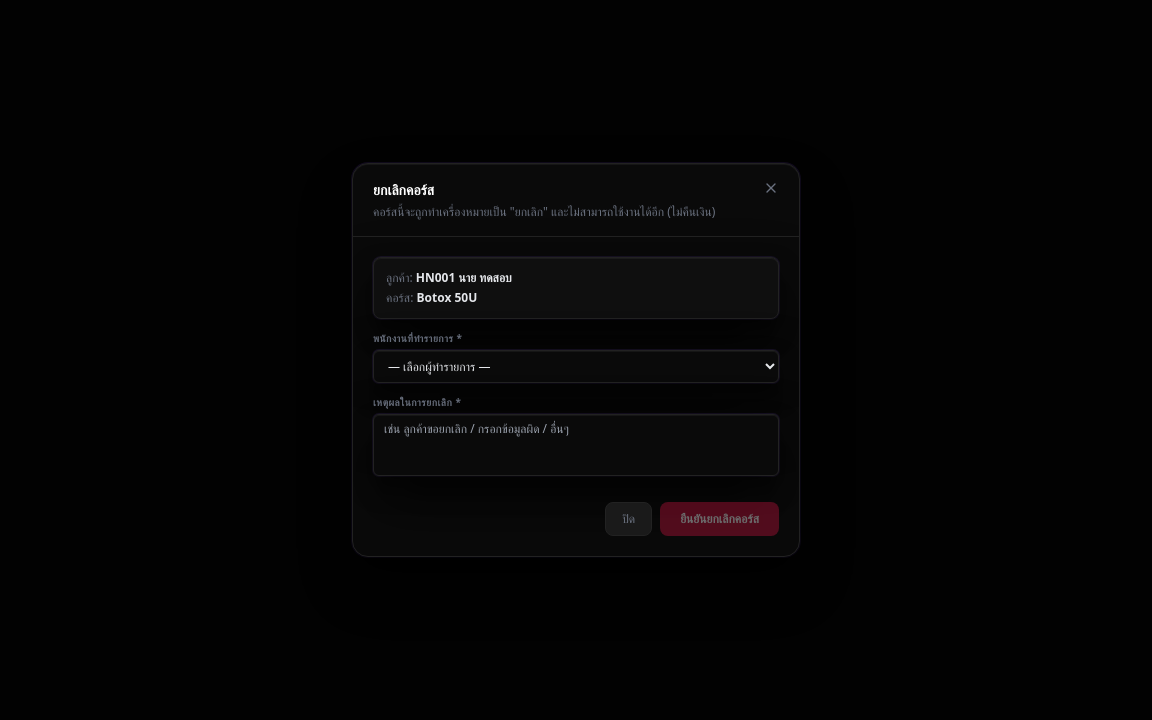
it: M1 CancelCourseModal › M1.4 error banner shown on backend failure (V31 anti-silent-swallow)
Select "นาง สมหญิง ใจดี" in the dropdown with test id "cancel-course-staff" at (576, 366), box [373,350,779,383]
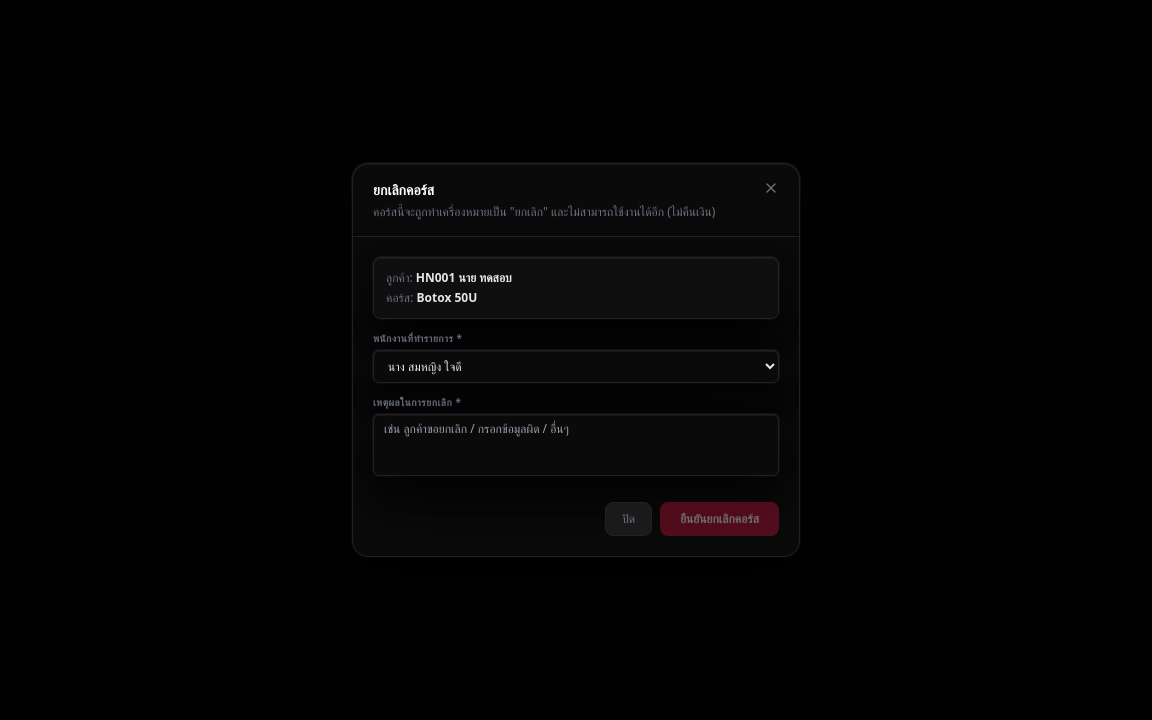
Type "r" into the text box with test id "cancel-course-reason".
click(576, 445); type("r")  # box [373,414,779,476]
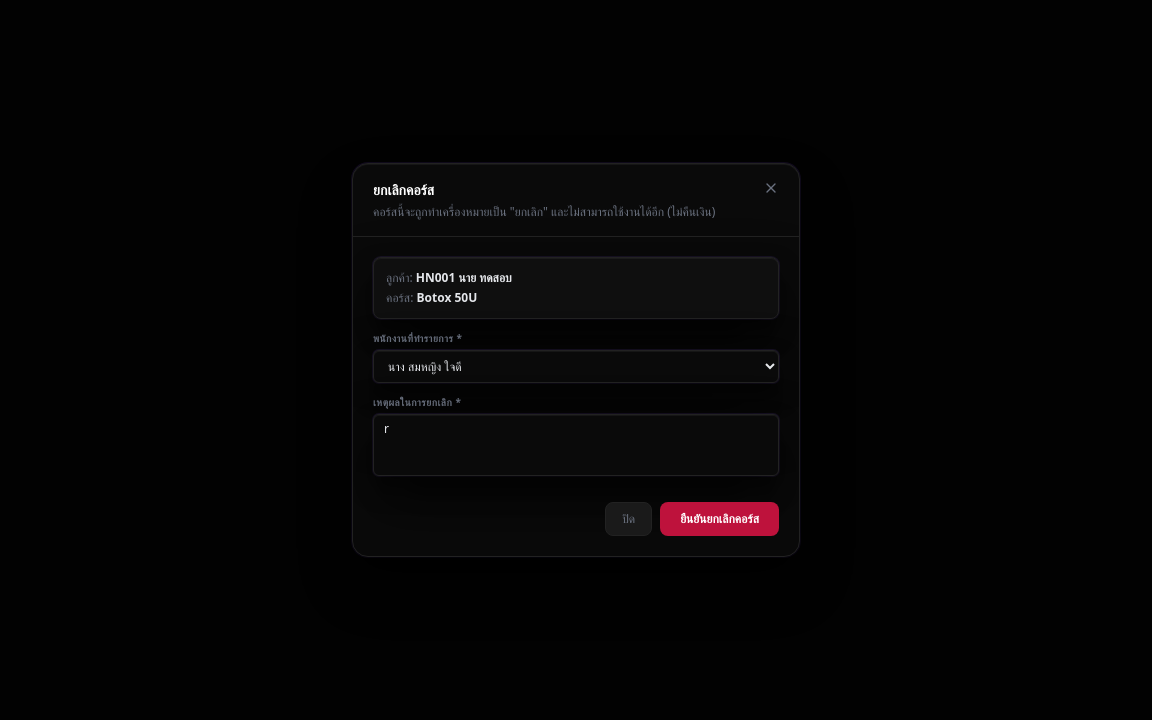
Click the button with test id "cancel-course-submit".
click(720, 519)  # box [660,502,779,536]
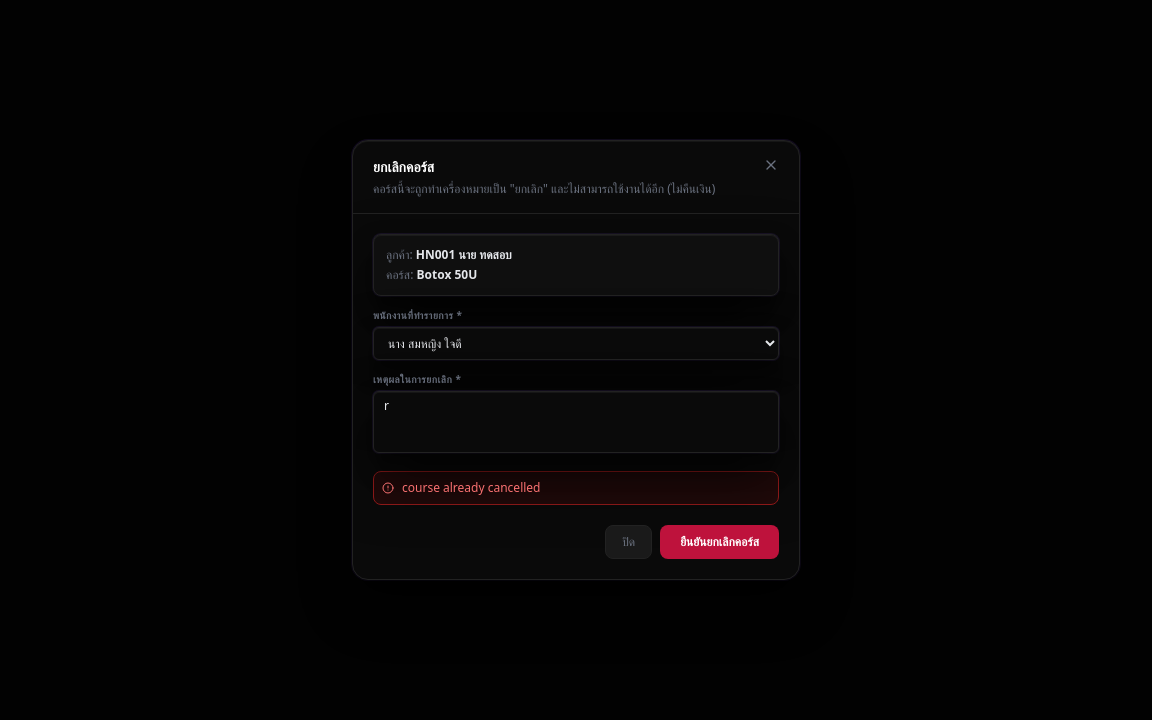
Expected: the element with test id "cancel-course-error" is shown, [373,471,779,505]
Expected: the element with test id "cancel-course-error" shows "already cancelled", [402,479,540,496]
